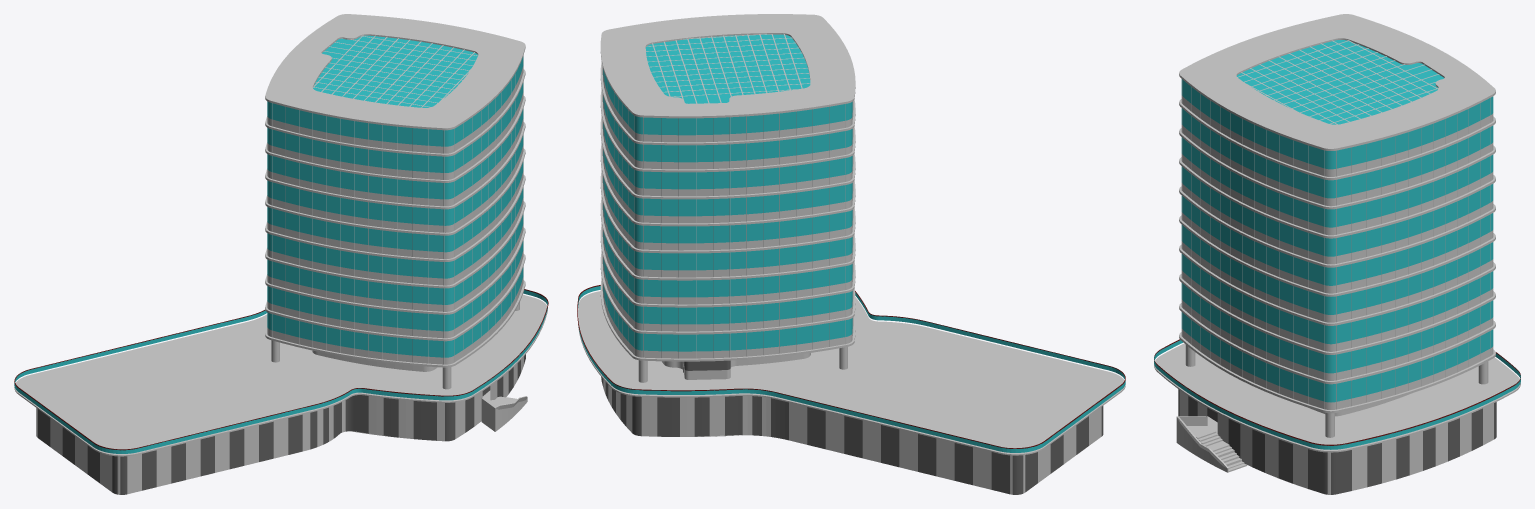
The model's file is hotel.FBX.
3 views of the same model, side by side, from view 1: azimuth 30°, elevation 25°; view 2: azimuth 150°, elevation 25°; view 3: azimuth 270°, elevation 25° (orthographic). The views are drawn at different scales.
Parts seen in each view (by area): view 1: 0_curve_.004, 0_curve_.007, 0_curve_.005, 0_curve_, 0_curve_.002, 0_curve_.006, 0_curve_.009, Plane.001, 0_curve_.010, Plane.002, 0_curve_.003, 0_curve_.008; view 2: 0_curve_.004, 0_curve_.007, 0_curve_.005, 0_curve_, 0_curve_.002, 0_curve_.006, 0_curve_.009, Plane.002, 0_curve_.008, 0_curve_.010, Plane.001; view 3: 0_curve_.004, 0_curve_.005, 0_curve_.007, 0_curve_, 0_curve_.002, 0_curve_.006, 0_curve_.003, 0_curve_.009, Plane.001, Plane.002, 0_curve_.010.
Part boxes in pixels (x1,y1,x2,y2): 0_curve_.004: (267, 56, 523, 364); 0_curve_.007: (14, 294, 547, 456); 0_curve_.005: (265, 14, 525, 367); 0_curve_: (36, 354, 525, 494); 0_curve_.002: (313, 35, 478, 107); 0_curve_.006: (272, 55, 523, 364); 0_curve_.009: (14, 290, 547, 453); Plane.001: (313, 35, 477, 107); 0_curve_.010: (14, 289, 548, 450); Plane.002: (312, 35, 474, 107); 0_curve_.003: (481, 396, 527, 431); 0_curve_.008: (312, 350, 437, 371); 0_curve_.004: (603, 69, 852, 358); 0_curve_.007: (578, 291, 1125, 455); 0_curve_.005: (600, 14, 855, 361); 0_curve_: (601, 377, 1103, 494); 0_curve_.002: (645, 34, 810, 103); 0_curve_.006: (602, 67, 853, 358); 0_curve_.009: (578, 286, 1125, 452); Plane.002: (646, 34, 809, 96); 0_curve_.008: (662, 353, 810, 379); 0_curve_.010: (577, 285, 1125, 448); Plane.001: (652, 34, 802, 103); 0_curve_.004: (1181, 79, 1493, 409); 0_curve_.005: (1179, 14, 1495, 413); 0_curve_.007: (1154, 343, 1520, 452); 0_curve_: (1178, 389, 1496, 494); 0_curve_.002: (1236, 40, 1444, 124); 0_curve_.006: (1182, 80, 1490, 409); 0_curve_.003: (1176, 416, 1247, 472); 0_curve_.009: (1154, 340, 1520, 449); Plane.001: (1237, 40, 1439, 124); Plane.002: (1241, 40, 1438, 124); 0_curve_.010: (1154, 339, 1520, 445).
Size of the model in its own units: 5057 by 3109 by 2979.
